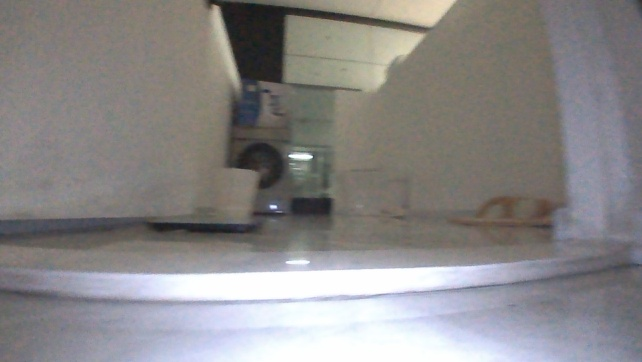bed1: (143, 206, 262, 234)
toilet: (228, 120, 295, 217), (330, 158, 410, 219)
trash_can: (206, 163, 263, 221)
